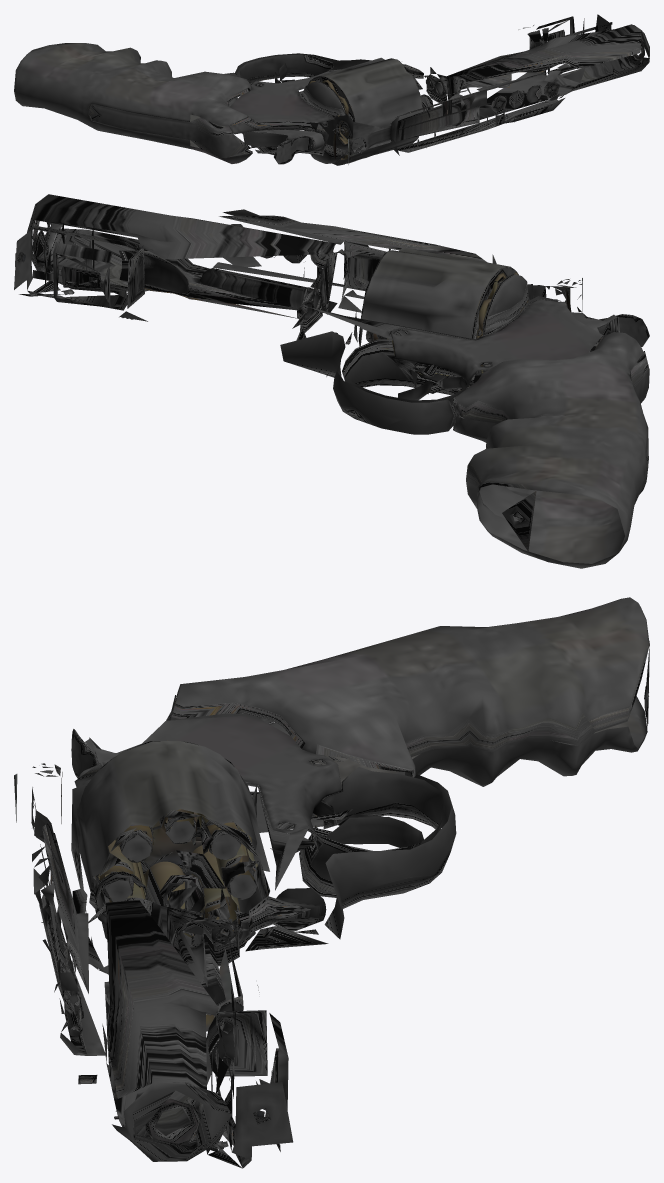
The model's file is w_revolver.glb.
3 views of the same model, one above another, from view 1: azimuth 30°, elevation 25°; view 2: azimuth 150°, elevation 25°; view 3: azimuth 270°, elevation 25° (orthographic). The views are drawn at different scales.
Visible parts, largest first — view 1: w_revolver; view 2: w_revolver; view 3: w_revolver.
Boxes of the visible parts, left/top/right/bottom form: w_revolver: left=14, top=14, right=649, bottom=165; w_revolver: left=14, top=194, right=649, bottom=568; w_revolver: left=14, top=597, right=649, bottom=1168.
Size of the model in its own units: 0.4306 by 0.0673 by 0.2359.
1 material, 1 textured.
